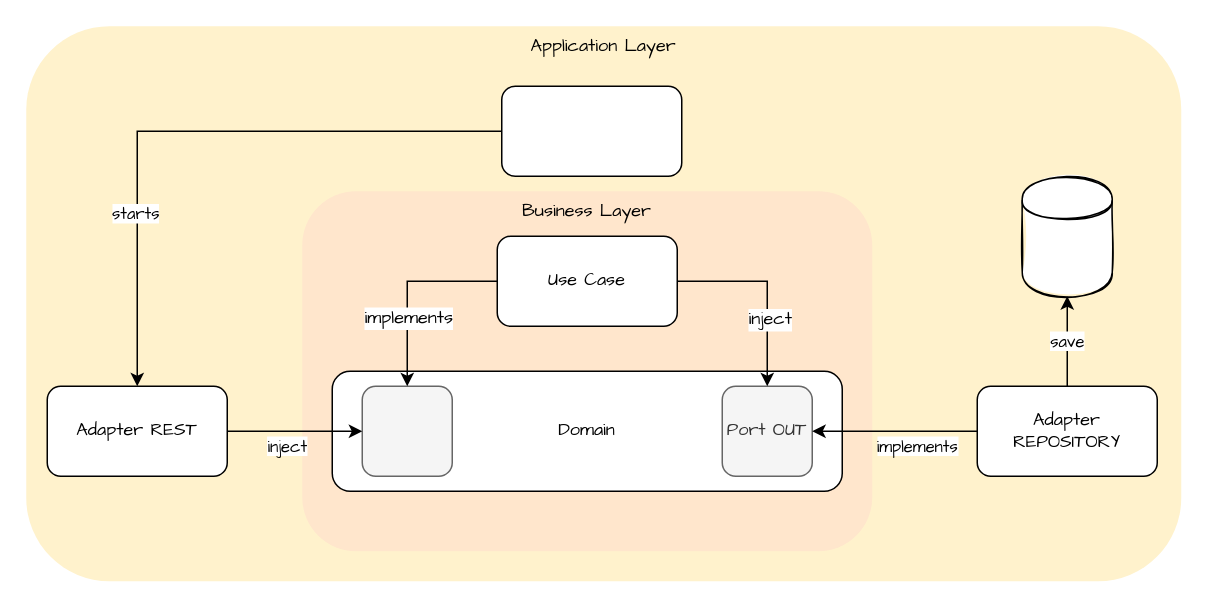
Some shapes in this 1206 by 606 pixel diagram are drawn without their labels. Each missing label, with the centre of its shape:
"Application BOOTLOADER" belongs at point (591, 130).
"DataBase" belongs at point (1066, 235).
"Port IN" belongs at point (406, 430).
